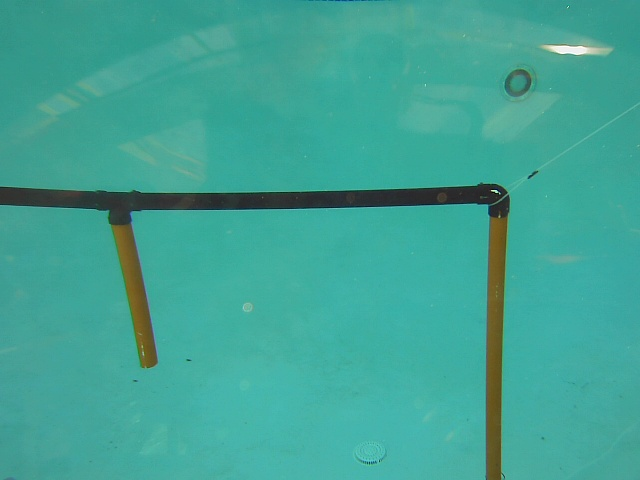Gate: (103, 213, 163, 372), (481, 210, 509, 480)
